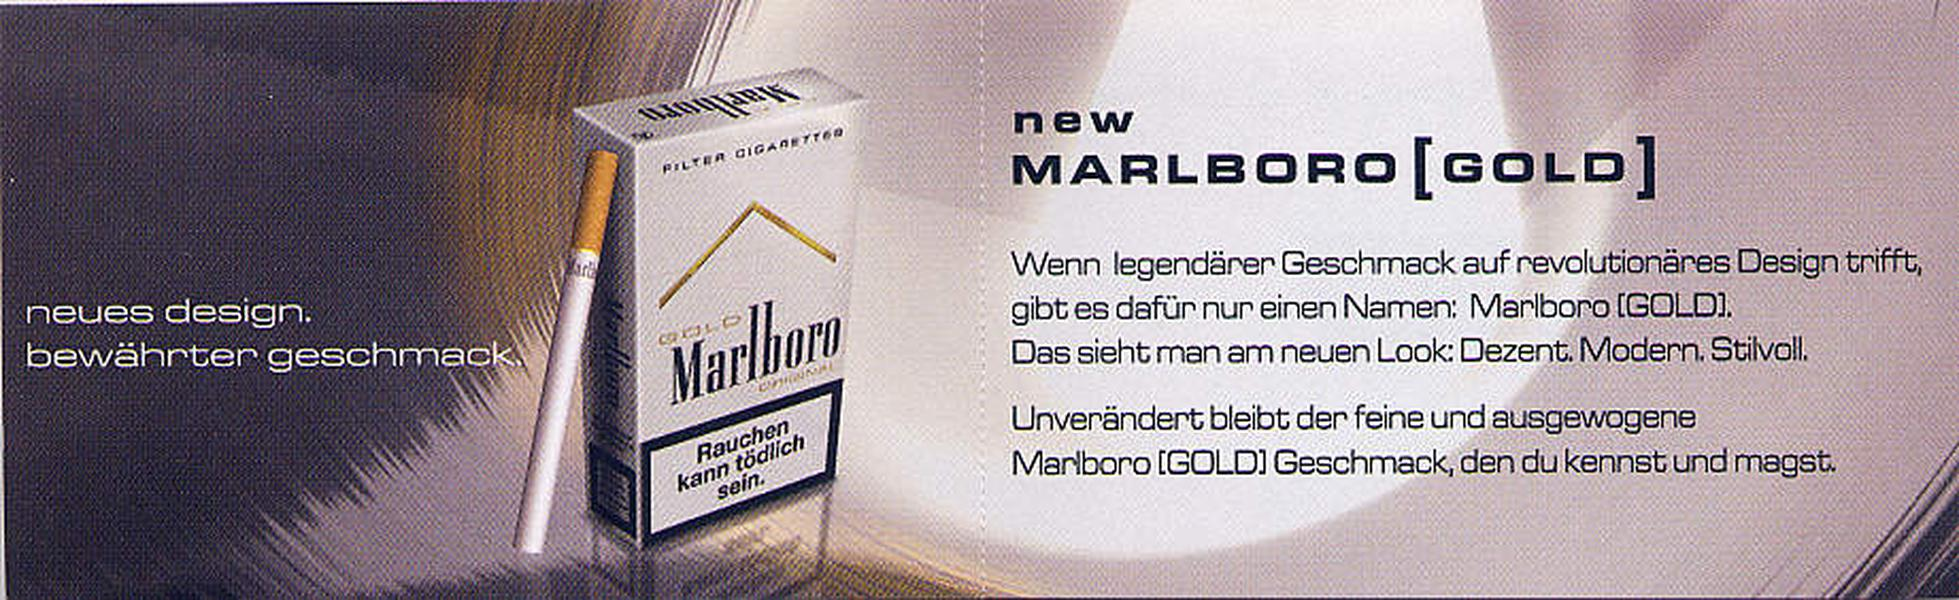marlboro_gold: (626, 129, 840, 492)
